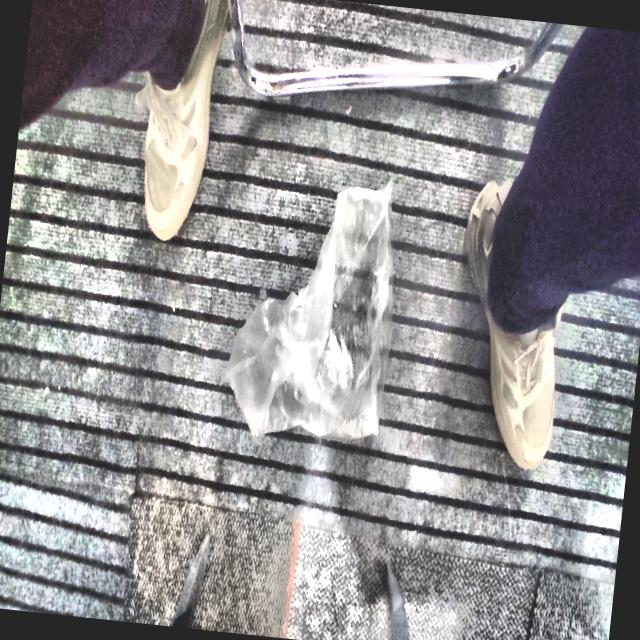plastic bag: (225, 183, 393, 439)
